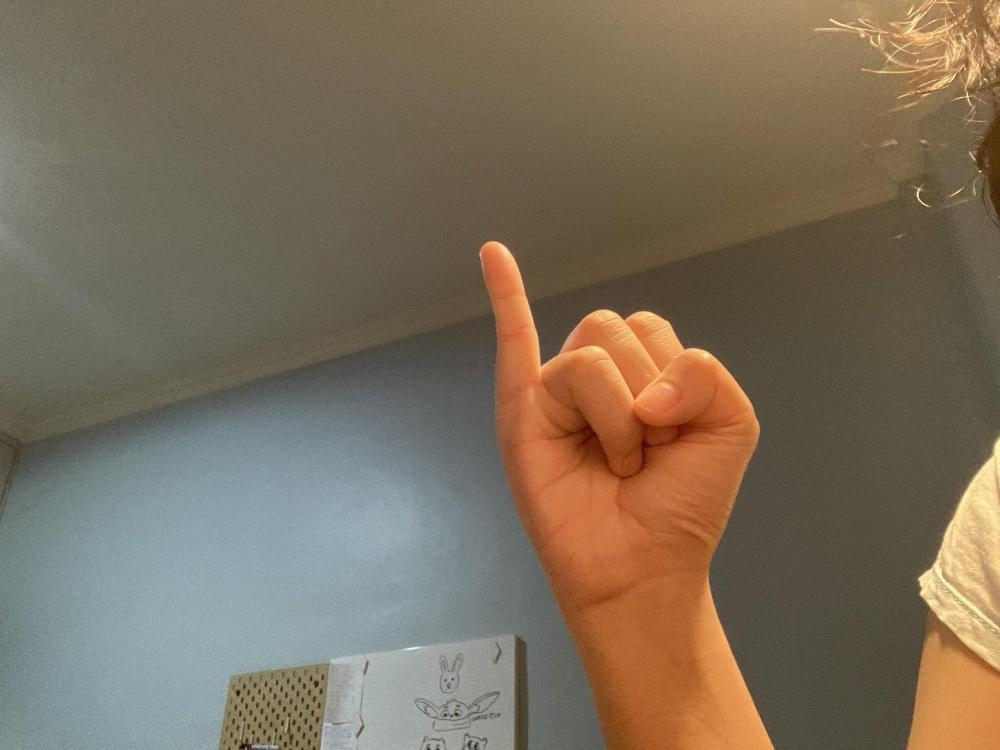i: (477, 239, 760, 616)
